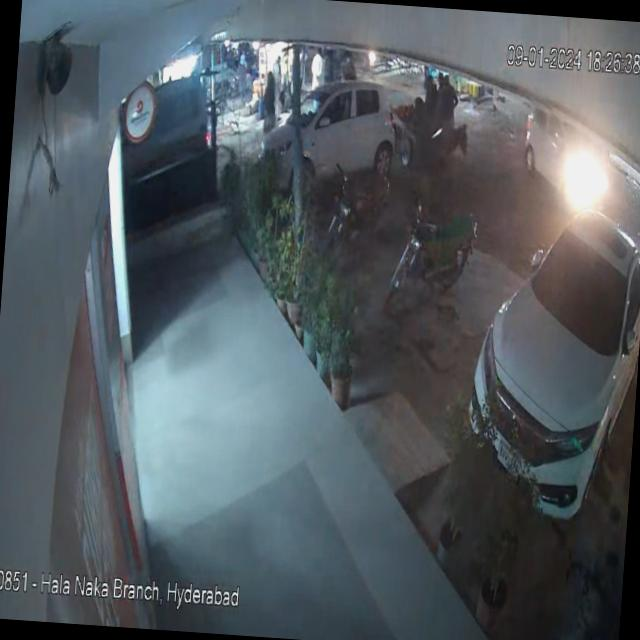Car: (454, 188, 640, 532), (240, 66, 408, 189)
Motorcycle: (378, 181, 485, 332), (313, 153, 396, 270)
